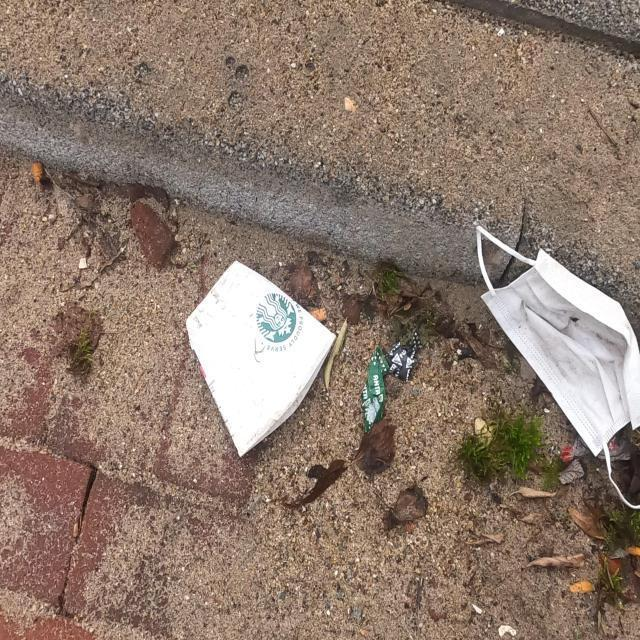Cup: (184, 255, 346, 464)
Mask: (472, 215, 640, 518)
Plastic: (358, 349, 392, 429), (389, 327, 422, 383)
